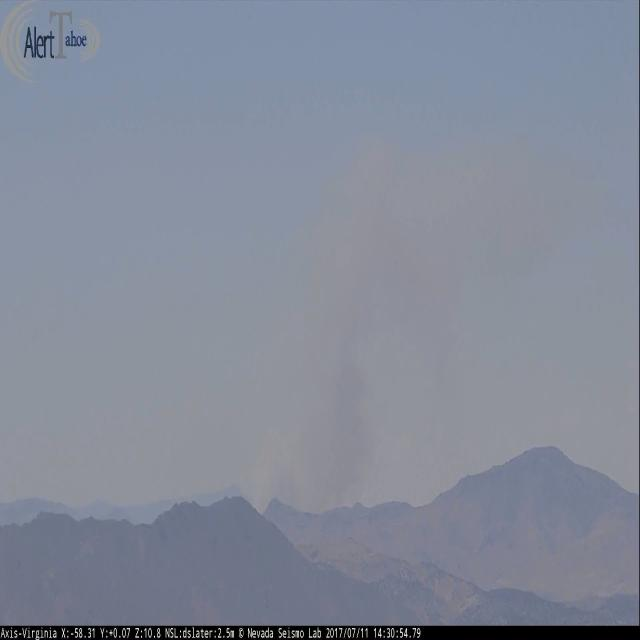smoke: (253, 133, 604, 518)
